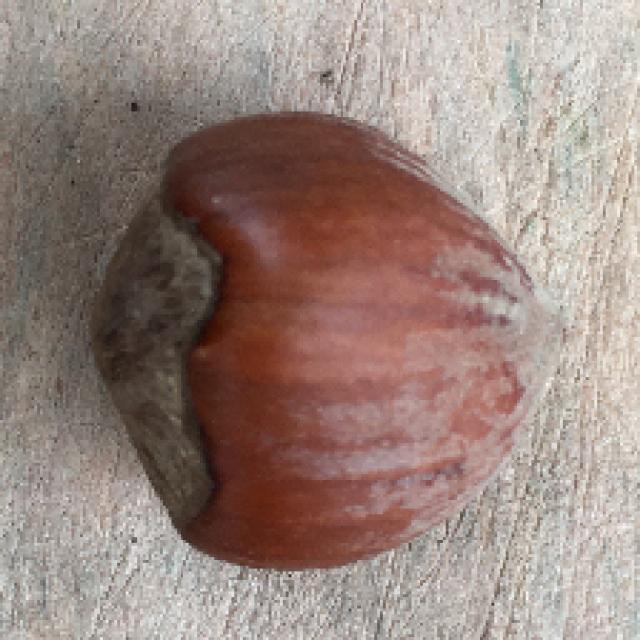qualityHazelnut: (87, 111, 569, 569)
